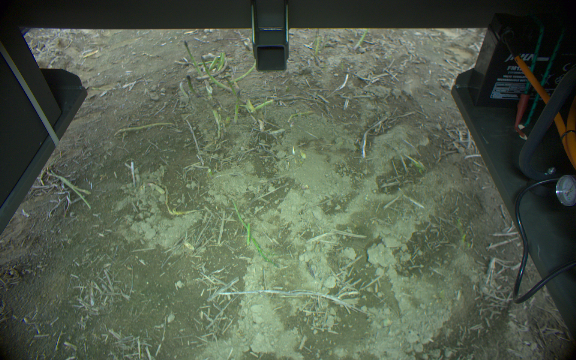aspa: (200, 58, 233, 94), (182, 38, 202, 81), (230, 86, 240, 122), (353, 29, 369, 50), (312, 34, 324, 59), (185, 76, 198, 97)
